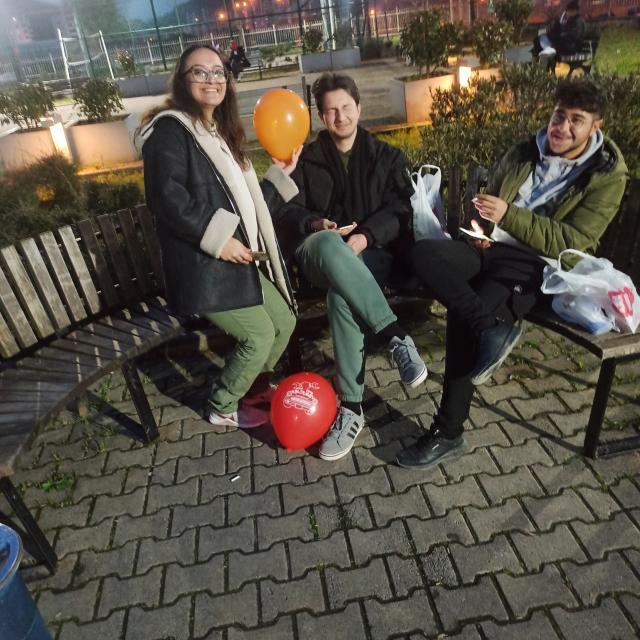balloon: (270, 374, 338, 452), (252, 86, 310, 160)
